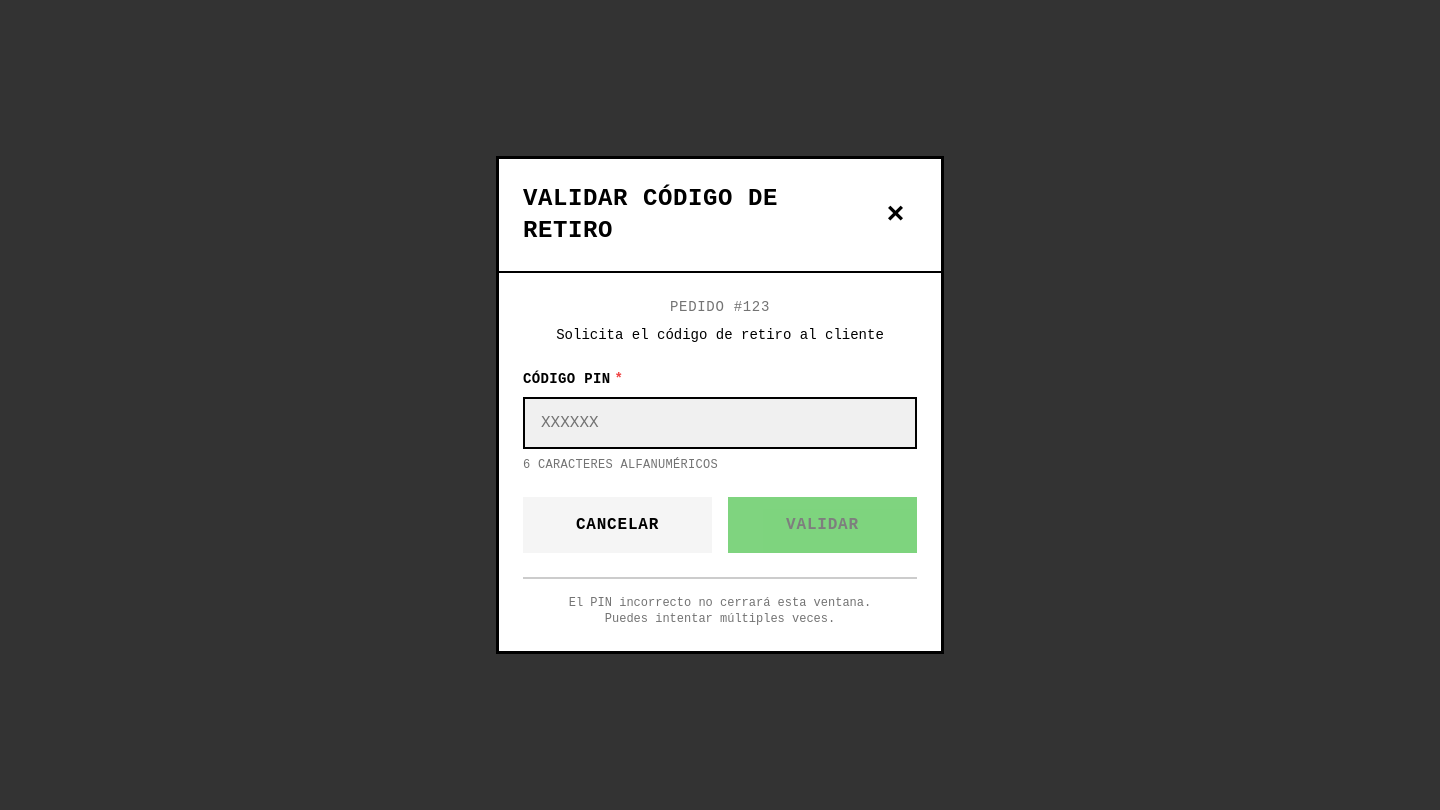
Test case: PinValidationModal - Critical Flow › enables validate button when PIN is 6 characters
Type "ABC123" into the field with placeholder "XXXXXX".
click(720, 423); type("ABC123")  # box [523,397,917,449]
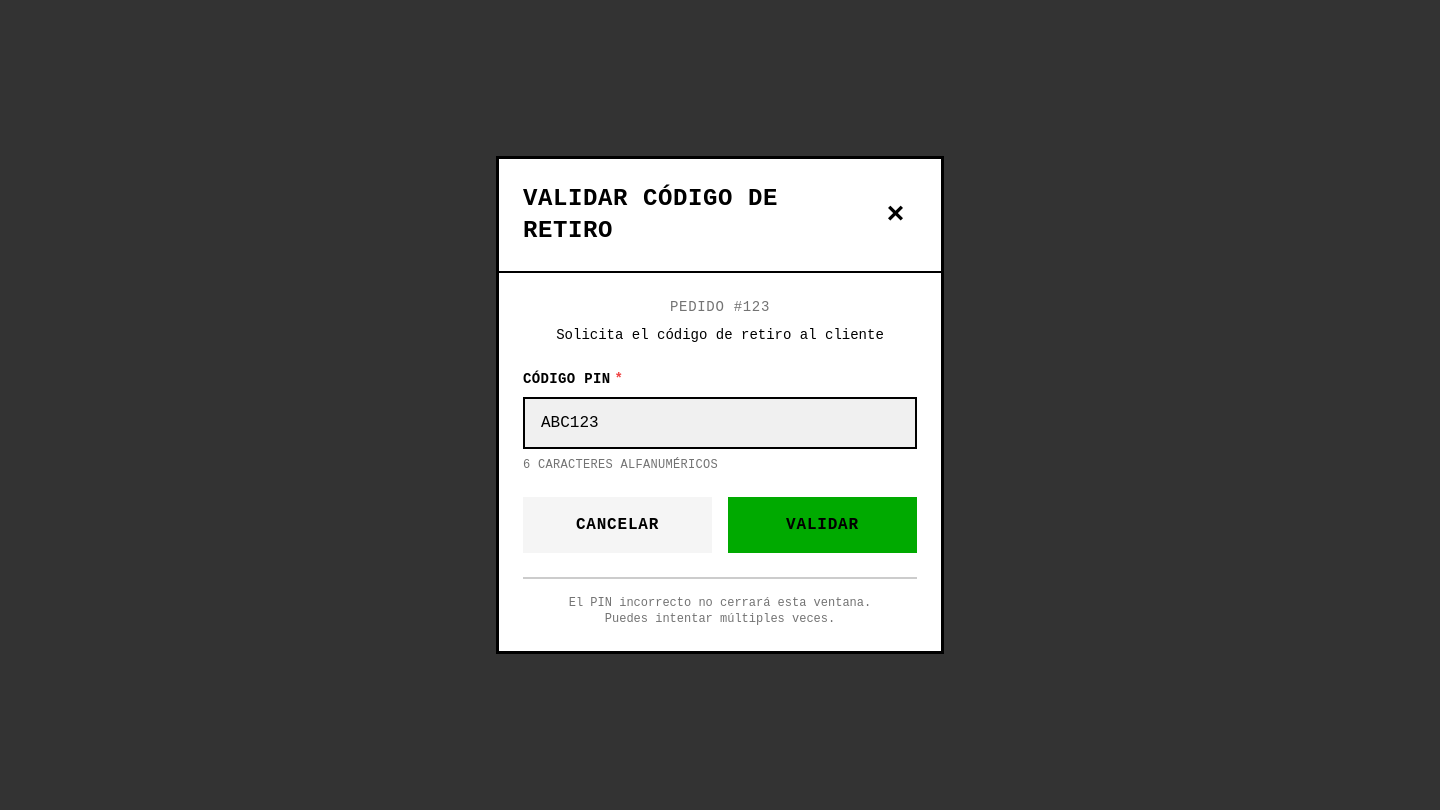
Check: the button "VALIDAR" is enabled, box [728,497,917,553]
